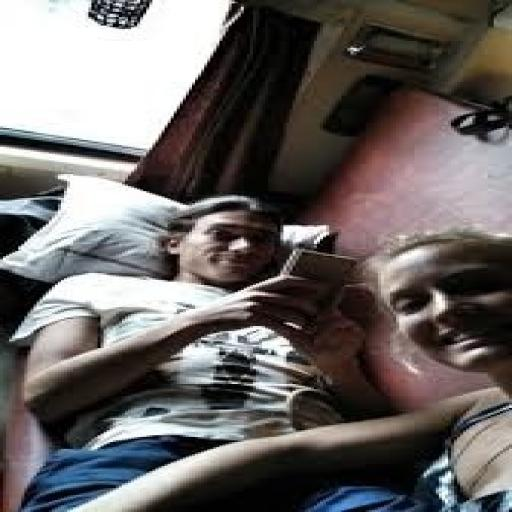sitting: (6, 214, 509, 510)
